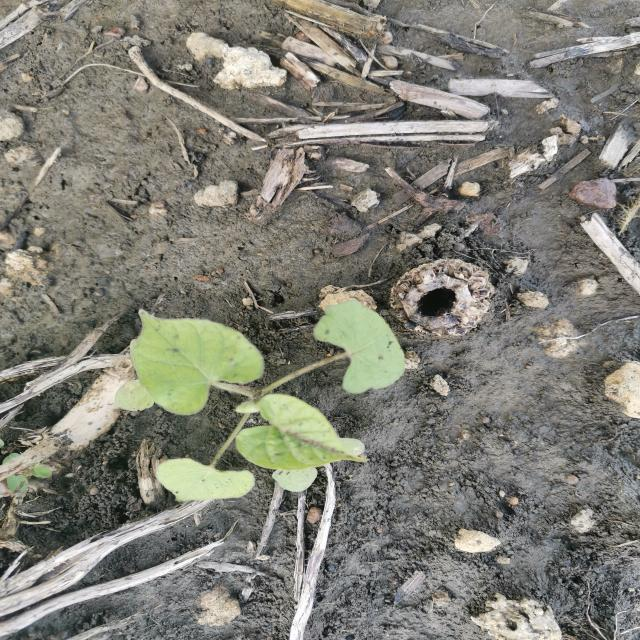MorningGlory: (128, 292, 408, 501)
